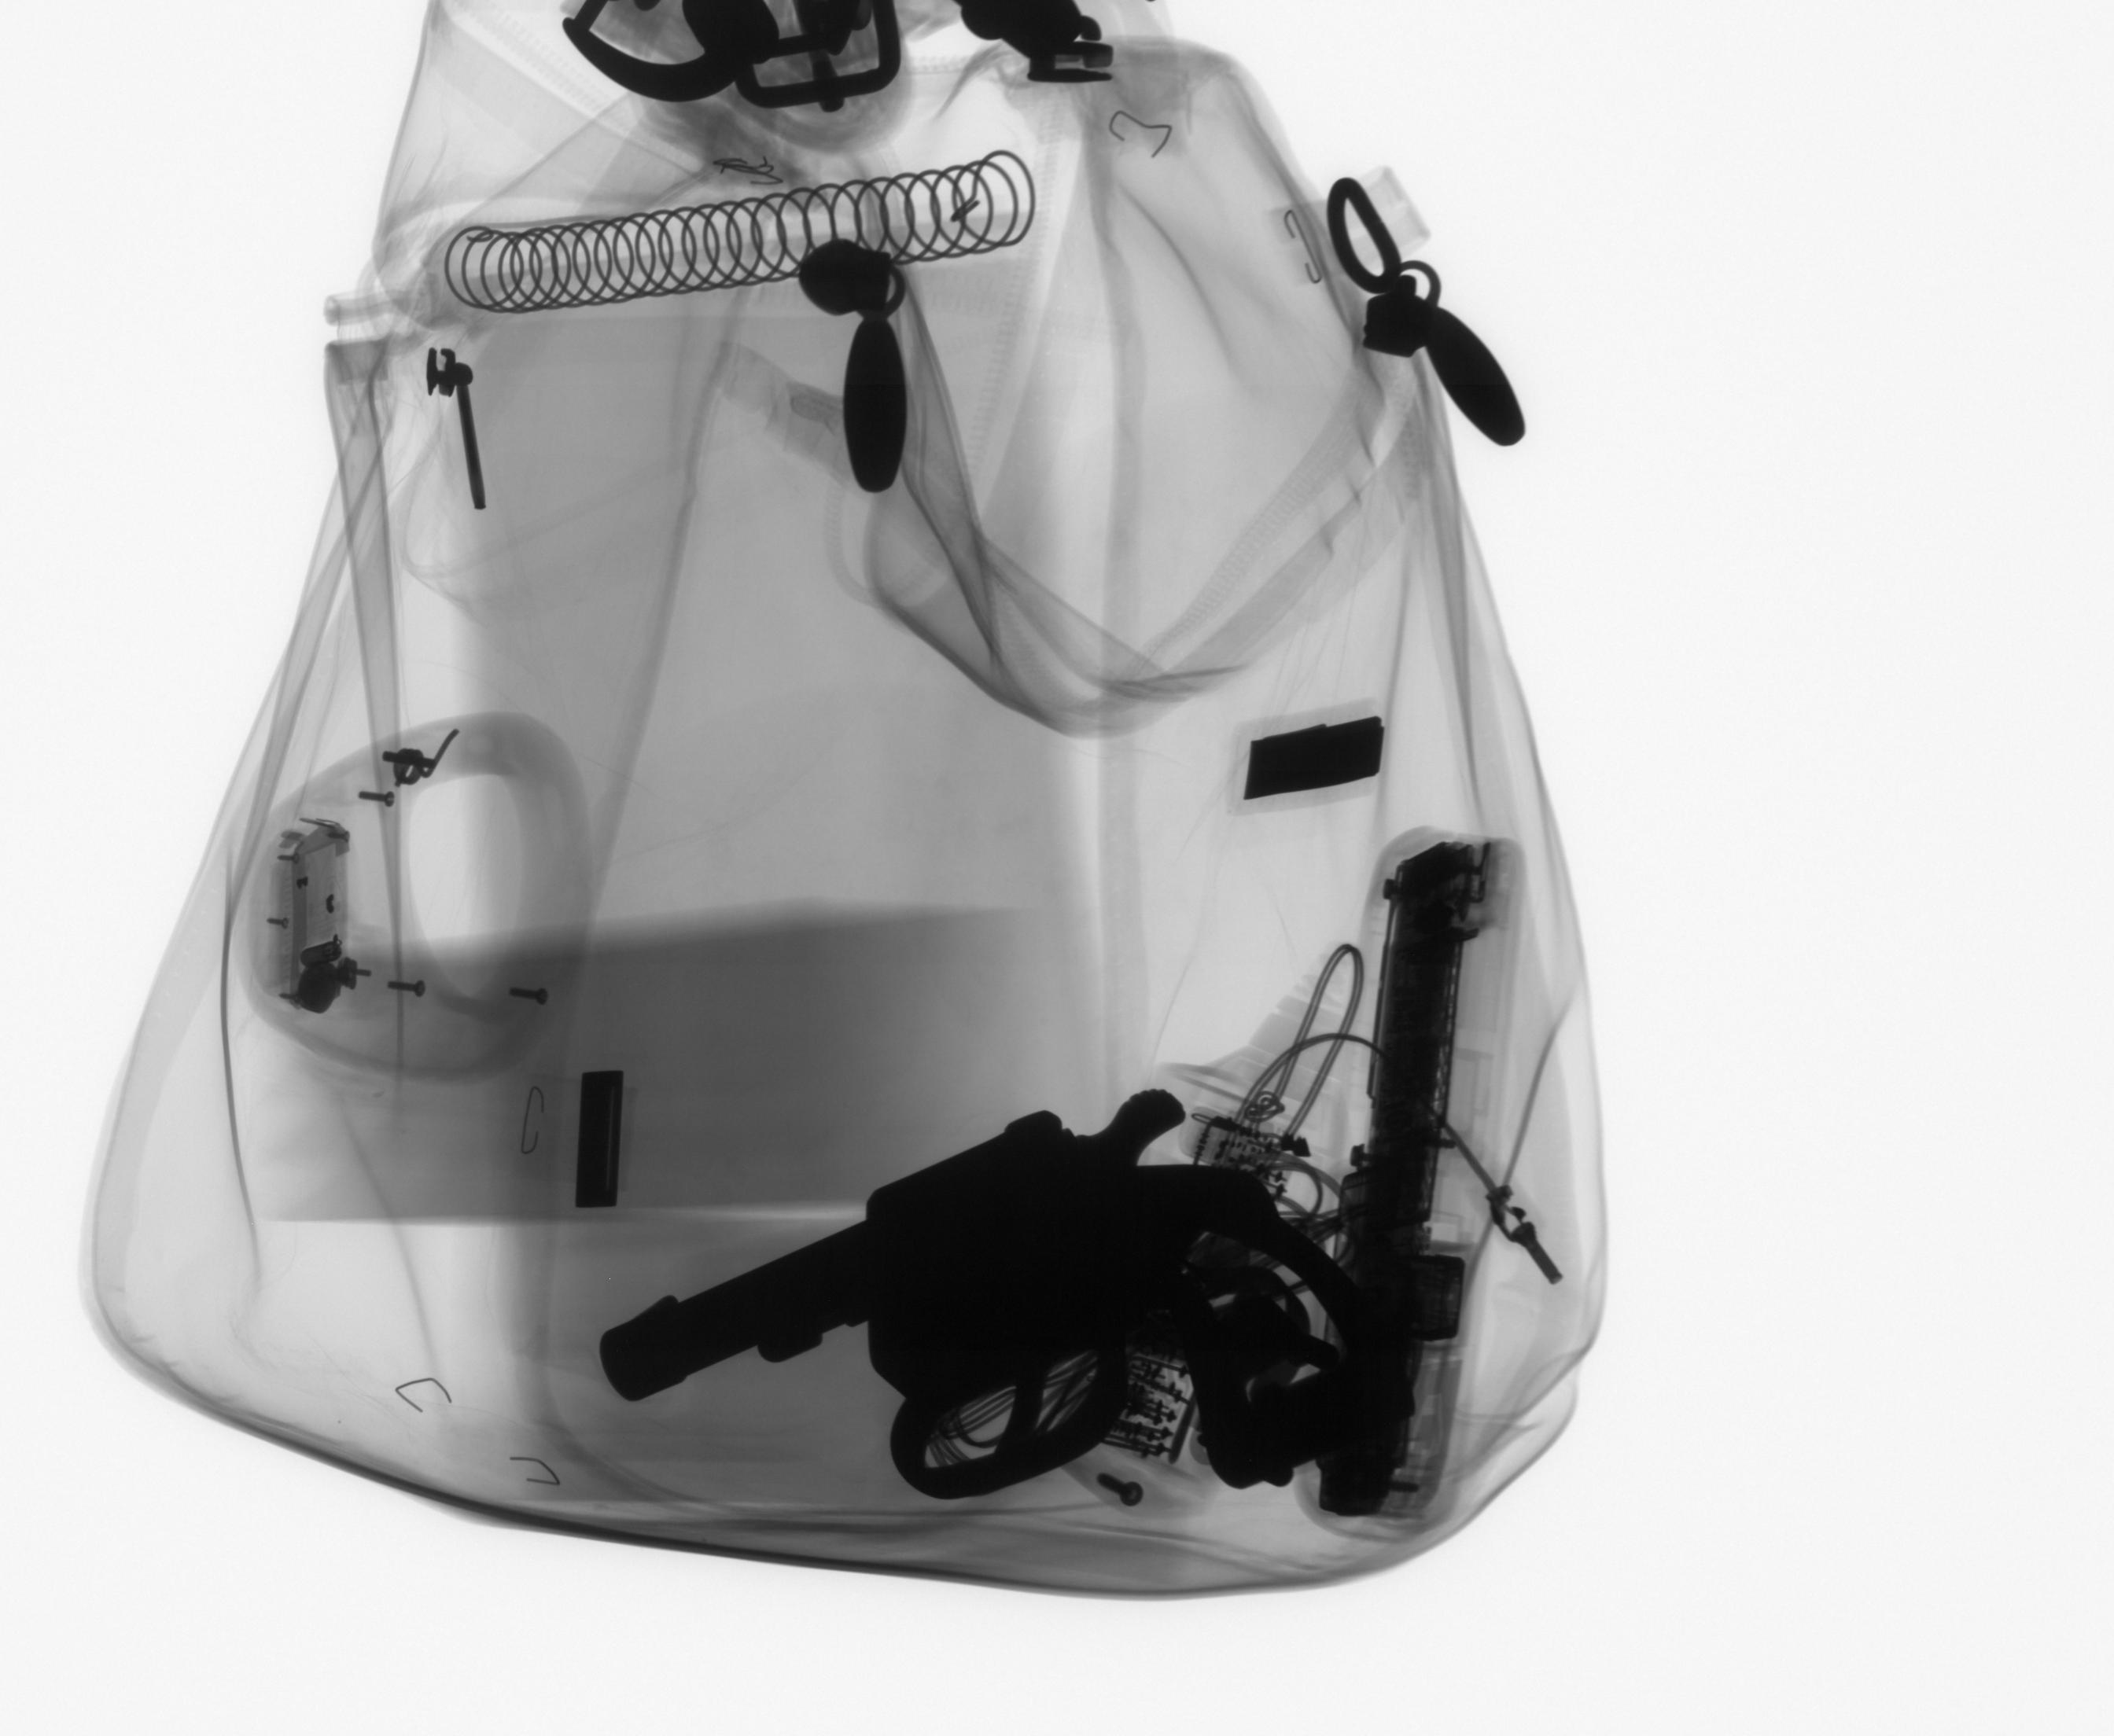Handgun: (591, 1082, 1426, 1528)
